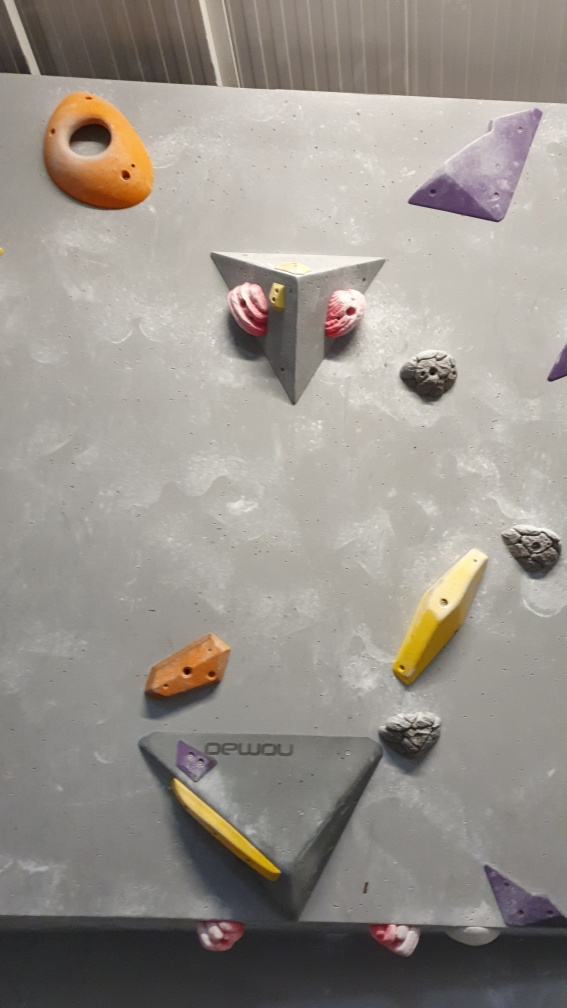Jug: (373, 713, 444, 767), (500, 525, 564, 583), (399, 348, 460, 405), (226, 283, 273, 344), (319, 284, 368, 341), (366, 918, 424, 962), (195, 921, 245, 953)
Pinch: (388, 545, 492, 684), (144, 631, 228, 712)
Pocket: (42, 85, 157, 213)
